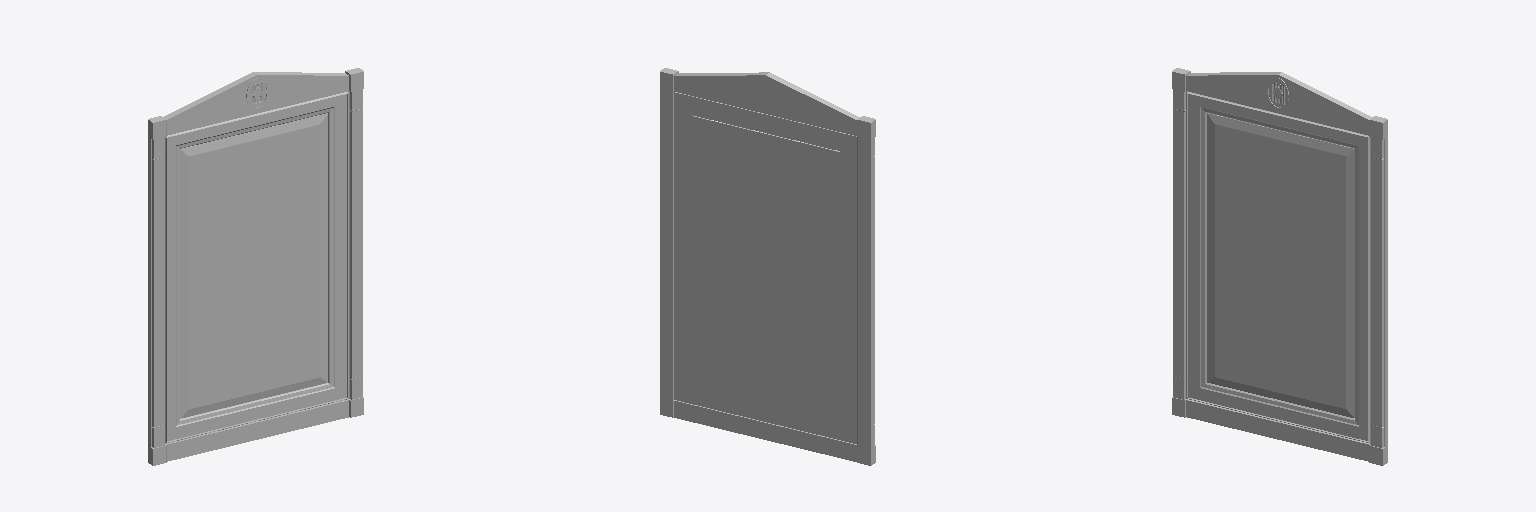
File: Mirroir chambre To.obj
The picture shows the model from 3 angles: view 1: azimuth 30°, elevation 25°; view 2: azimuth 150°, elevation 25°; view 3: azimuth 330°, elevation 25°; orthographic projection.
Visible parts, largest first — view 1: Miroir, Cadre; view 2: Miroir, Cadre; view 3: Miroir, Cadre.
Part boxes in pixels (x1,y1,x2,y2): Miroir: (180,113,327,418); Cadre: (148,68,363,465); Miroir: (692,116,839,420); Cadre: (660,68,875,465); Miroir: (1207,113,1354,417); Cadre: (1172,68,1387,465).
Size of the model in its own units: 0.7699 by 1.27 by 0.033.